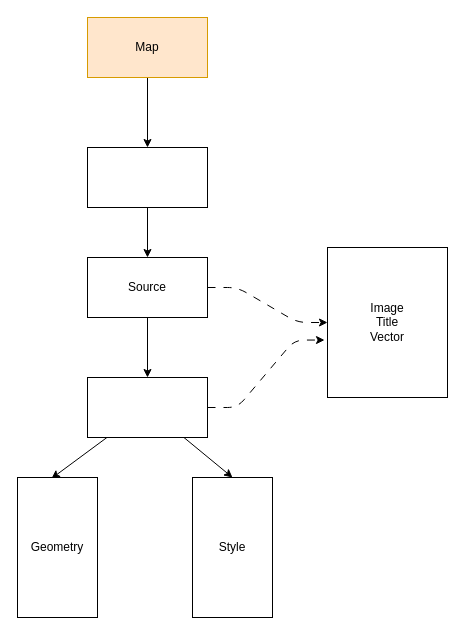
This 465x635 diagram has some shape labels left out. Here are the shapes that lost their labels. From the top down, the centre of each, then its label:
At point (147, 177): "Layers".
At point (147, 407): "Feature".
